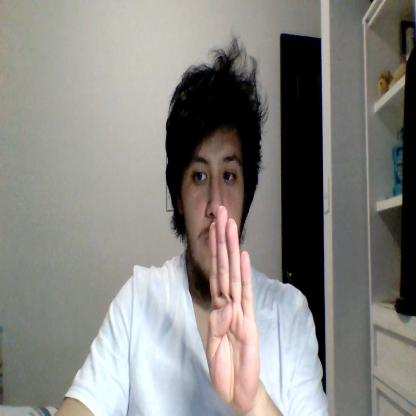B: (206, 206, 259, 404)
